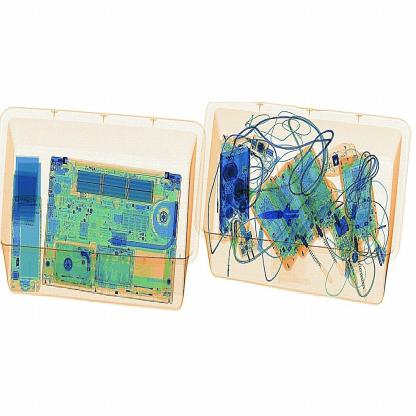gun: (252, 179, 342, 246)
